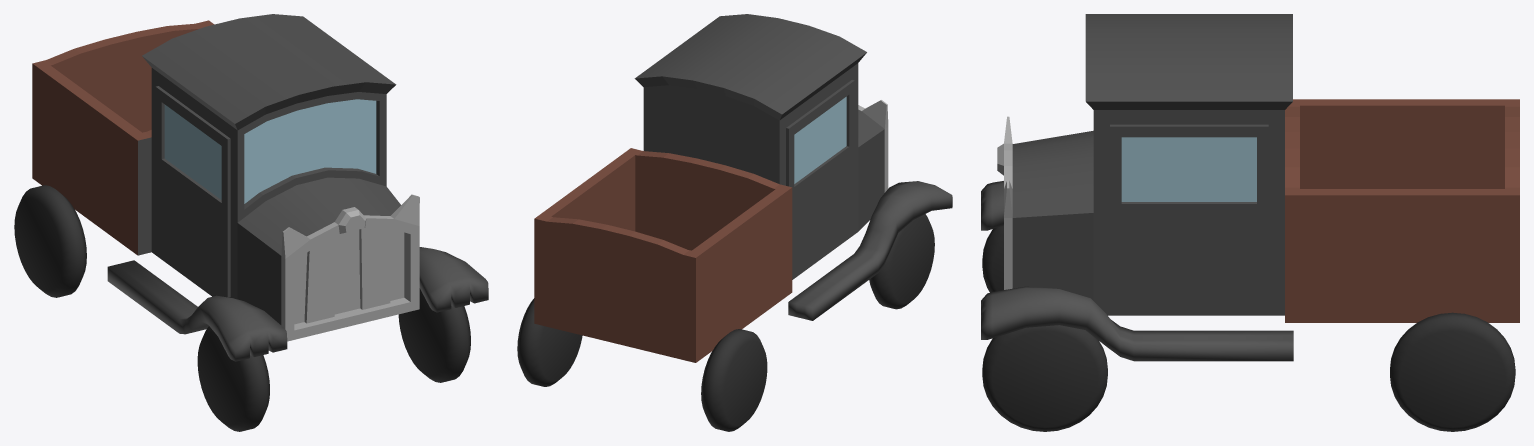
File: catmobile.fbx
The picture shows the model from 3 angles, left to right: view 1: azimuth 30°, elevation 25°; view 2: azimuth 150°, elevation 25°; view 3: azimuth 270°, elevation 25°; orthographic projection. The views are drawn at different scales.
Visible parts, largest first — view 1: Cube, Cube.002, Cylinder, Cube.001; view 2: Cube, Cube.002, Cylinder, Cube.001; view 3: Cube, Cube.002, Cylinder, Cube.001.
Part boxes in pixels (x1=…): Cube: x1=32, y1=20, x2=419, y2=341; Cube.002: x1=142, y1=14, x2=400, y2=255; Cylinder: x1=14, y1=185, x2=470, y2=431; Cube.001: x1=107, y1=247, x2=488, y2=361; Cube: x1=534, y1=53, x2=888, y2=362; Cube.002: x1=635, y1=14, x2=884, y2=146; Cylinder: x1=517, y1=214, x2=934, y2=431; Cube.001: x1=788, y1=181, x2=952, y2=320; Cube: x1=997, y1=99, x2=1519, y2=322; Cube.002: x1=1012, y1=14, x2=1292, y2=217; Cylinder: x1=982, y1=225, x2=1515, y2=431; Cube.001: x1=981, y1=181, x2=1293, y2=361.
Size of the model in its own units: 187 by 207 by 304.
